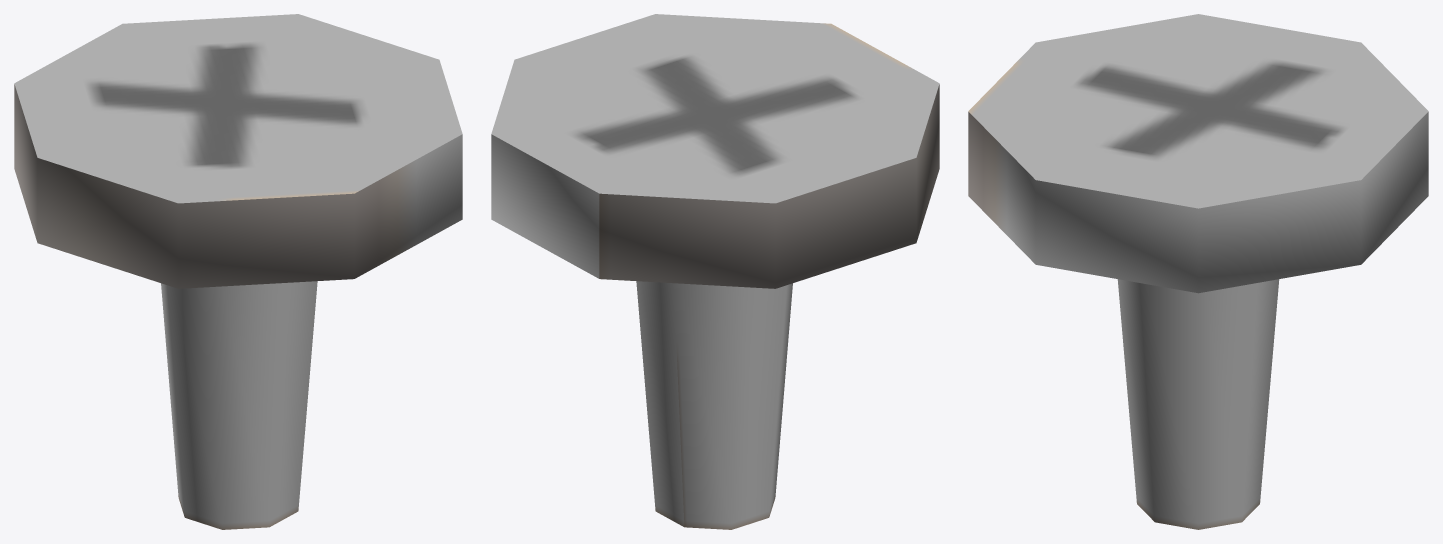
Rendered from Tornillo_MapSelector.fbx.
3 renders of one model, left to right at view 1: azimuth 30°, elevation 25°; view 2: azimuth 150°, elevation 25°; view 3: azimuth 270°, elevation 25°, orthographic.
Parts seen in each view (by area): view 1: Cylinder.009; view 2: Cylinder.009; view 3: Cylinder.009.
Part boxes in pixels (x1,y1,x2,y2): Cylinder.009: (14, 14, 462, 529); Cylinder.009: (491, 14, 939, 529); Cylinder.009: (968, 14, 1428, 529).
Bounding box in the file's own units: 1.43 × 1.34 × 1.43.
